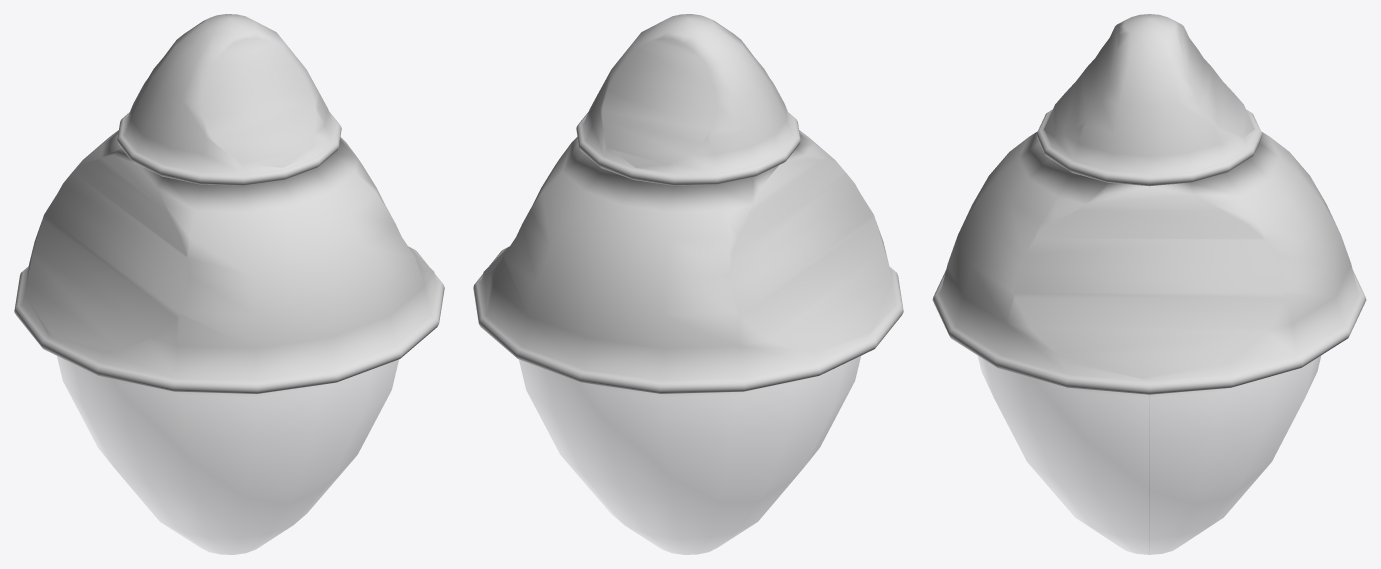
File: Semaphor.glb
The picture shows the model from 3 angles, left to right: view 1: azimuth 30°, elevation 25°; view 2: azimuth 150°, elevation 25°; view 3: azimuth 270°, elevation 25°; orthographic projection.
Parts seen in each view (by area): view 1: Semaphor; view 2: Semaphor; view 3: Semaphor.
Boxes of the visible parts, x1,y1,x2,y2 form: Semaphor: (14,14,444,554); Semaphor: (473,14,903,554); Semaphor: (932,14,1366,554).
Size of the model in its own units: 0.4253 by 0.5772 by 0.4253.
2 materials, 1 textured.
